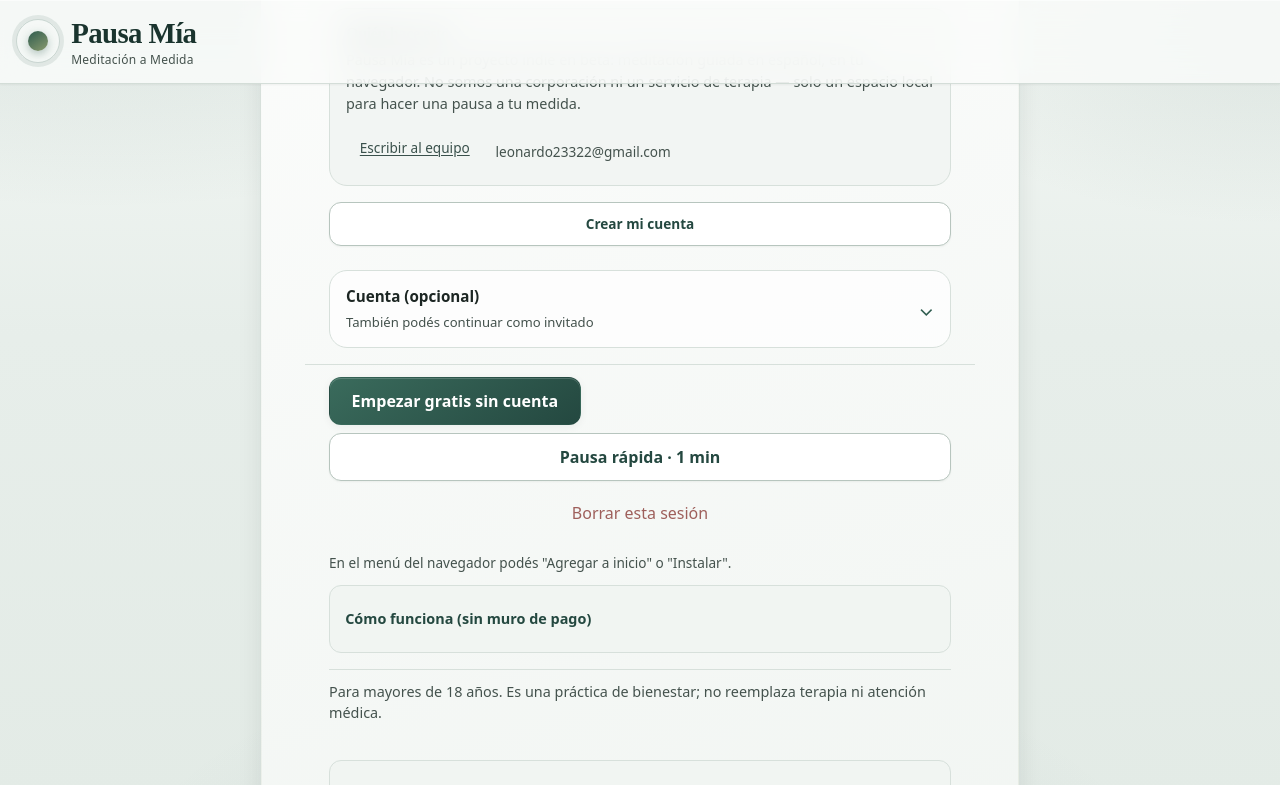
Test: App flow › renders welcome screen and navigates to consent
(page scrolled)
Click the button "Empezar gratis sin cuenta": coordinates (455, 401) [329,377,581,425]
(page scrolled)
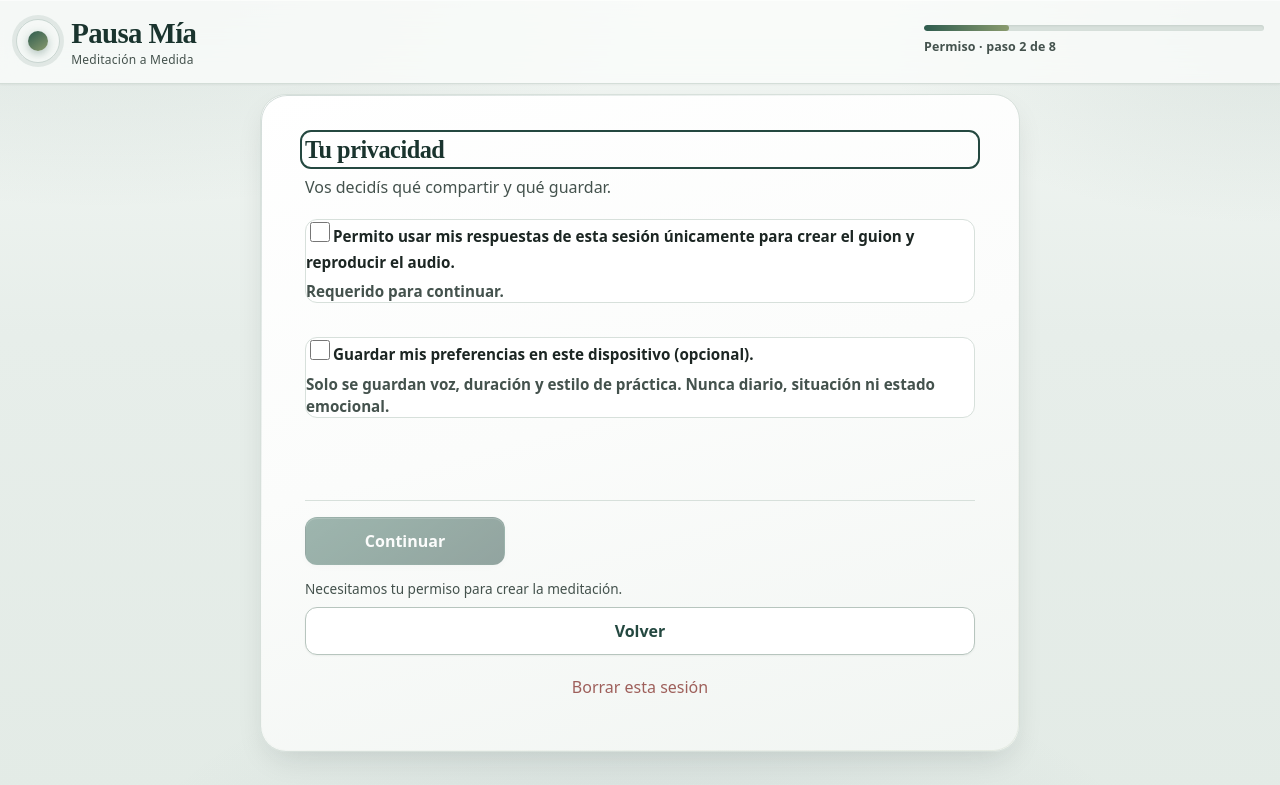
Now the heading "Tu privacidad" is shown, box [305,136,444,163]
